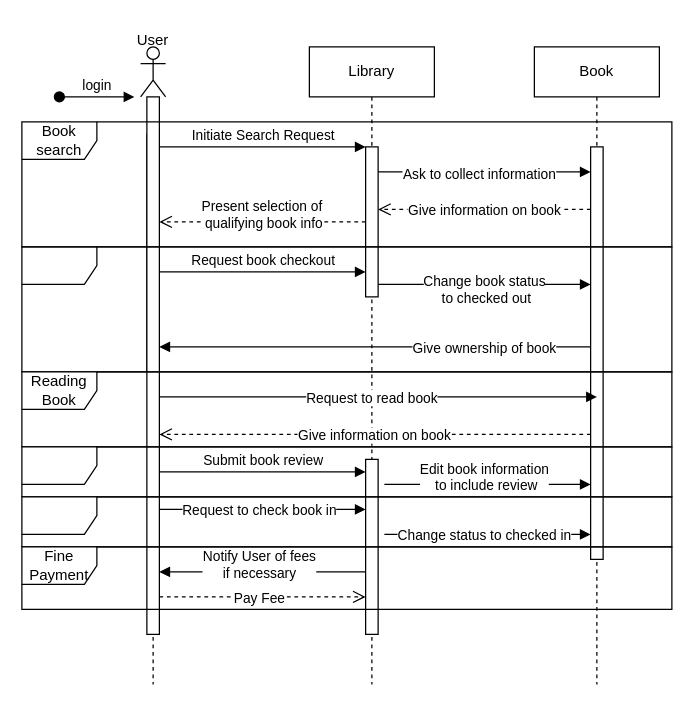
This 694x706 diagram has some shape labels left out. The centre of each missing label's shape, as x and y in pixels:
"Book checkin" goes at (346,521).
"book checkout" goes at (346,309).
"Review Book" goes at (346,471).
